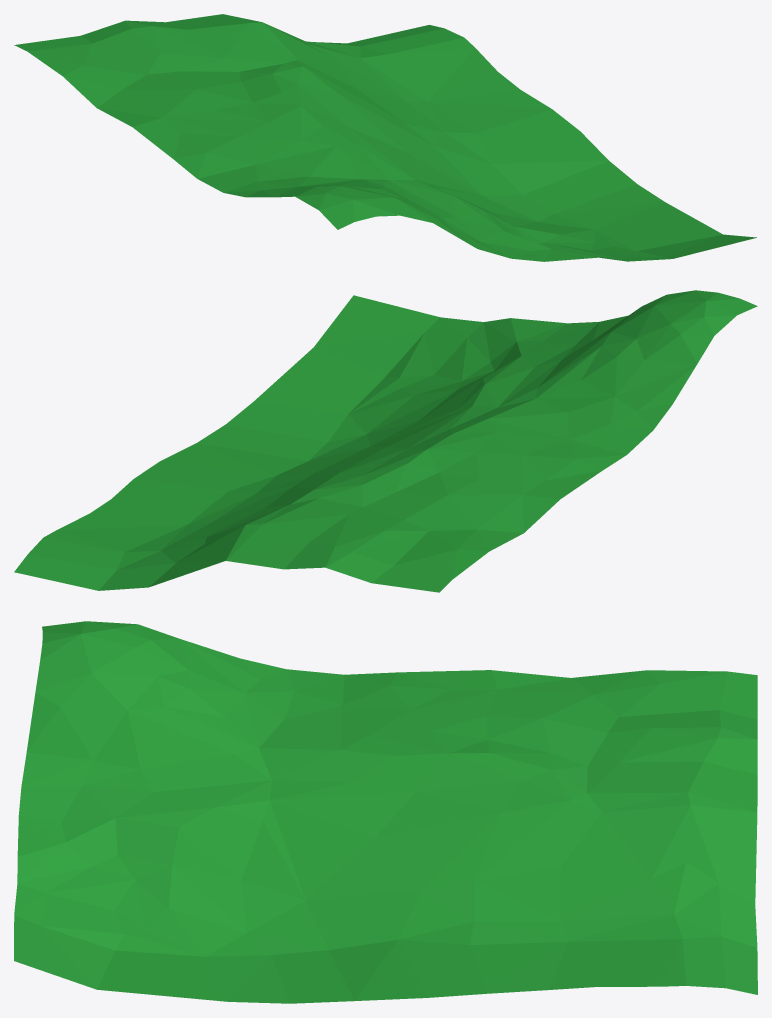
Rendered from Field_R8.fbx.
3 renders of one model, top to bottom at view 1: azimuth 30°, elevation 25°; view 2: azimuth 150°, elevation 25°; view 3: azimuth 270°, elevation 25°, orthographic. The views are drawn at different scales.
Visible parts, largest first — view 1: R8; view 2: R8; view 3: R8.
Boxes of the visible parts, x1,y1,x2,y2 form: R8: [14, 14, 756, 261]; R8: [14, 290, 757, 592]; R8: [14, 621, 757, 1003].
Bounding box in the file's own units: 2398 × 795 × 3266.
